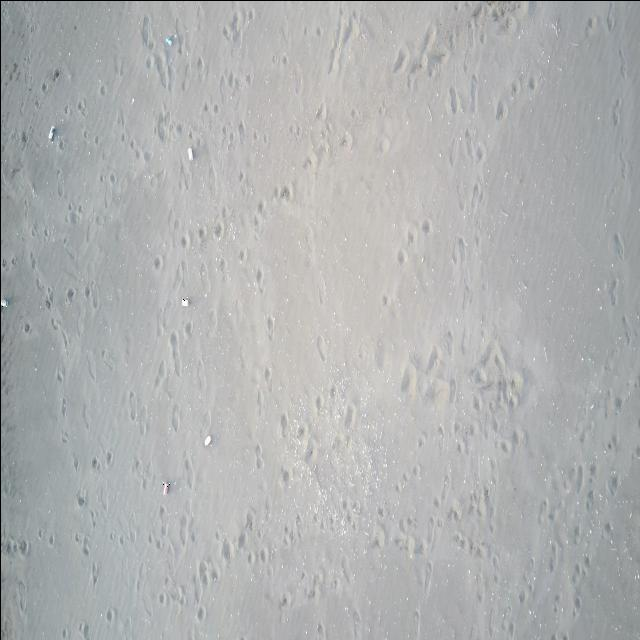Garbage: (164, 35, 175, 44), (48, 126, 55, 140), (0, 298, 8, 307), (204, 436, 211, 446), (187, 147, 192, 160), (181, 296, 187, 306), (163, 482, 167, 495)
